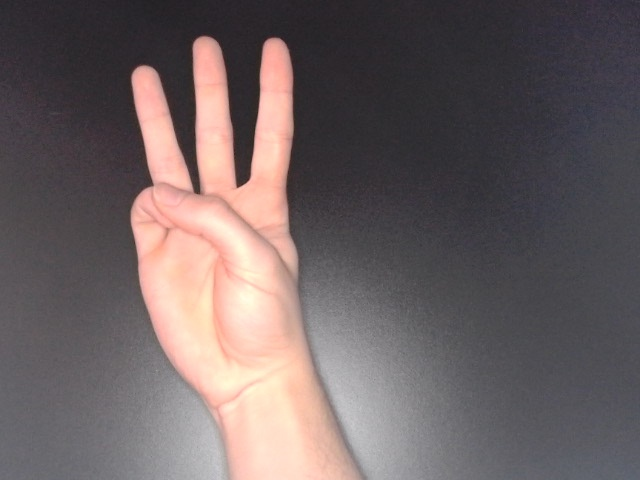w: (114, 31, 311, 417)
